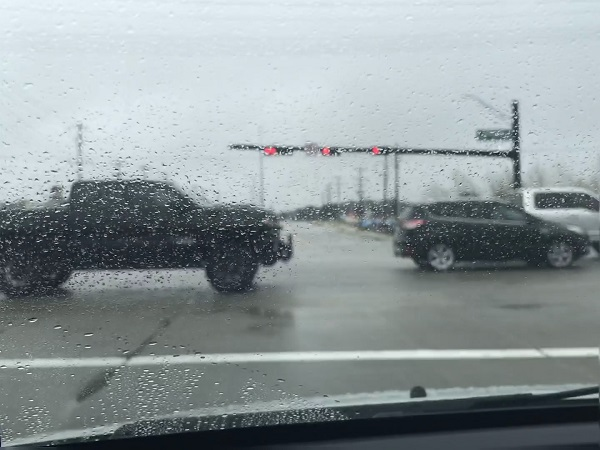car: (390, 200, 589, 271)
traffic light: (261, 147, 275, 157), (368, 144, 379, 154), (320, 147, 331, 156)
truck: (2, 179, 292, 294), (510, 183, 600, 253)
